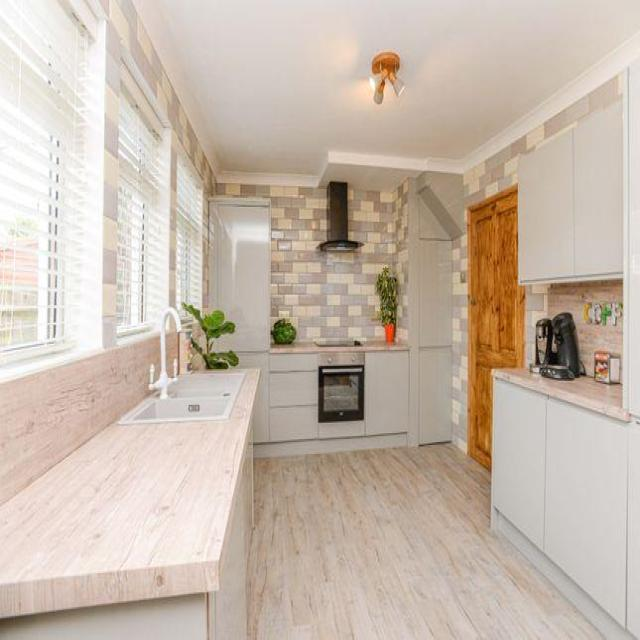Wall: (137, 1, 640, 173), (251, 444, 600, 639), (90, 0, 216, 348), (216, 180, 408, 343), (218, 184, 400, 343), (0, 336, 159, 503), (464, 74, 622, 205), (525, 284, 622, 365), (452, 236, 467, 449), (579, 319, 621, 352), (166, 332, 178, 372)
